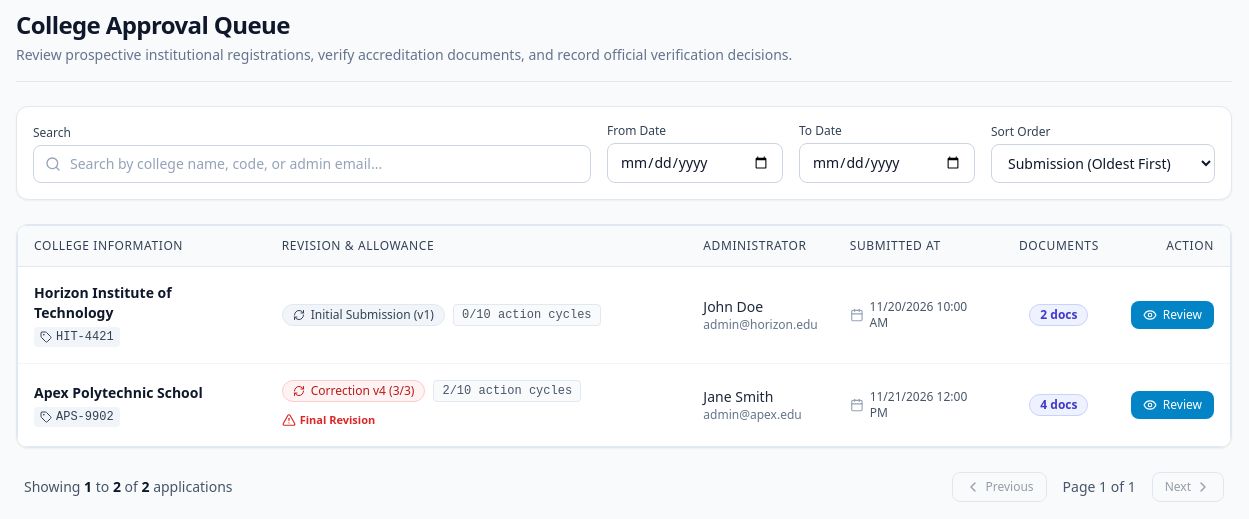
Test: Module 3.4 — Super Admin Approval Queue & Review Workflow (Frontend) › 6. resets all filters and page when Reset button is clicked
Expected: the text "Horizon Institute of Technology" is shown, [34,282,172,322]
Type "Apex" into the field with placeholder "Search by college name, code, or admin email...".
click(312, 164); type("Apex")  # box [33,145,591,183]
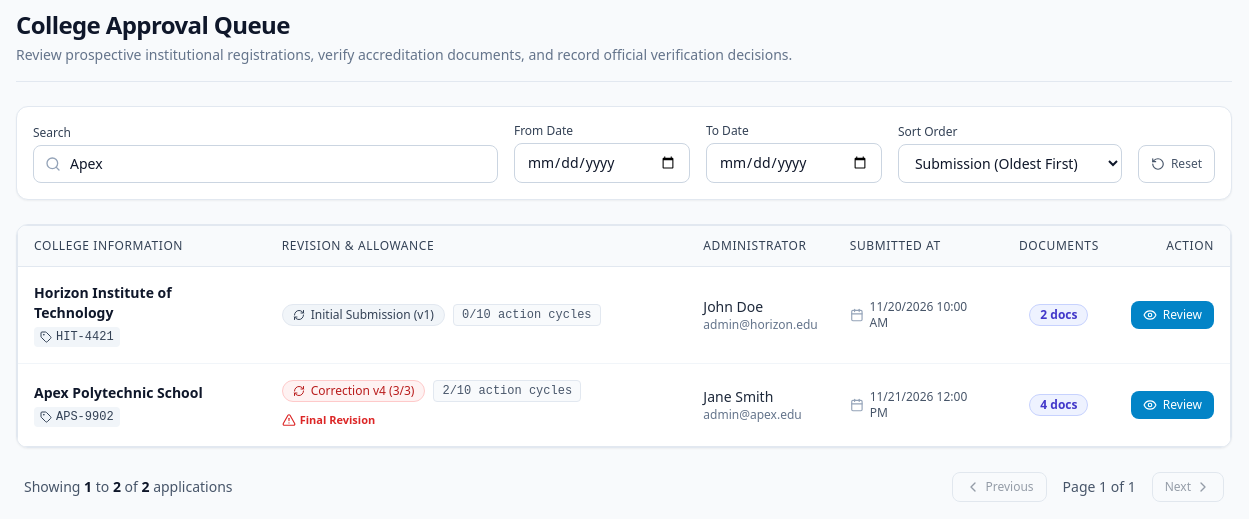
Result: the button "Reset" is shown
Click the button "Reset".
click(1176, 164)  # box [1138,145,1215,183]
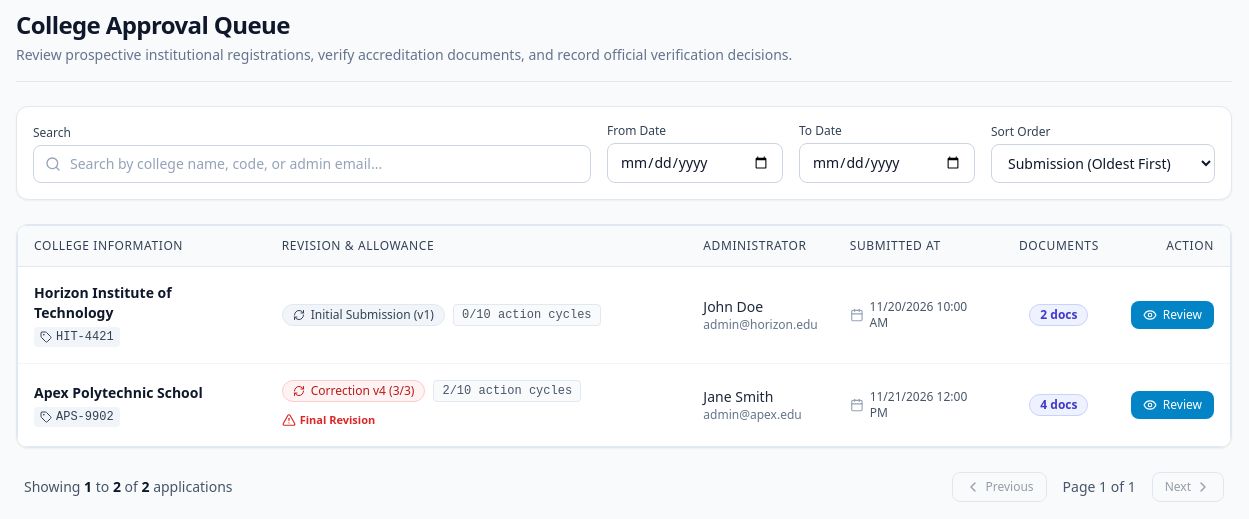
Result: the field with placeholder "Search by college name, code, or admin email..." is empty at [33,145,591,183]
Result: the button "Reset" is gone
